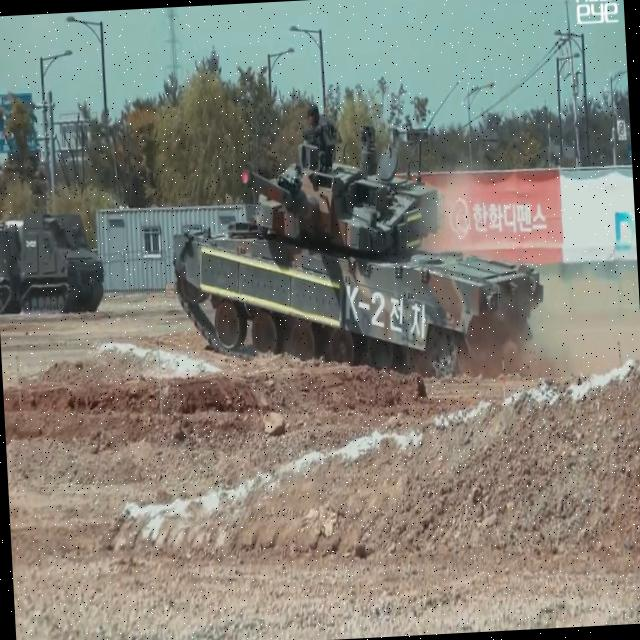korea tank: (164, 88, 550, 390)
